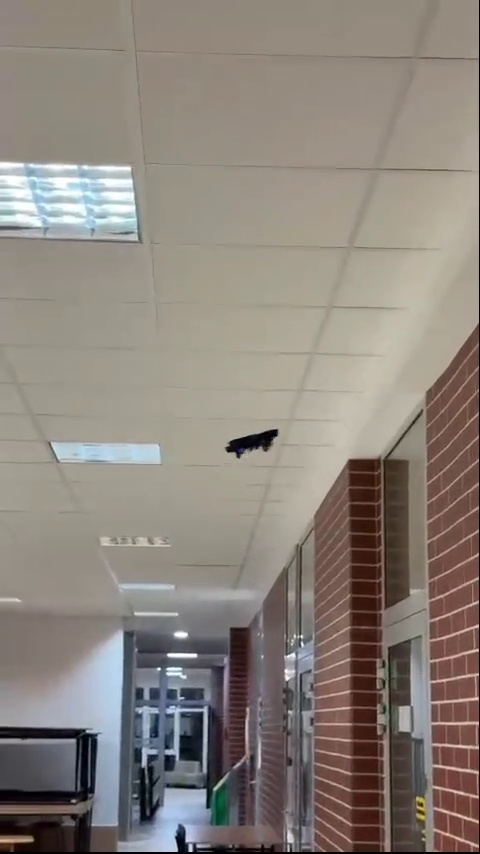drone: (223, 429, 282, 455)
